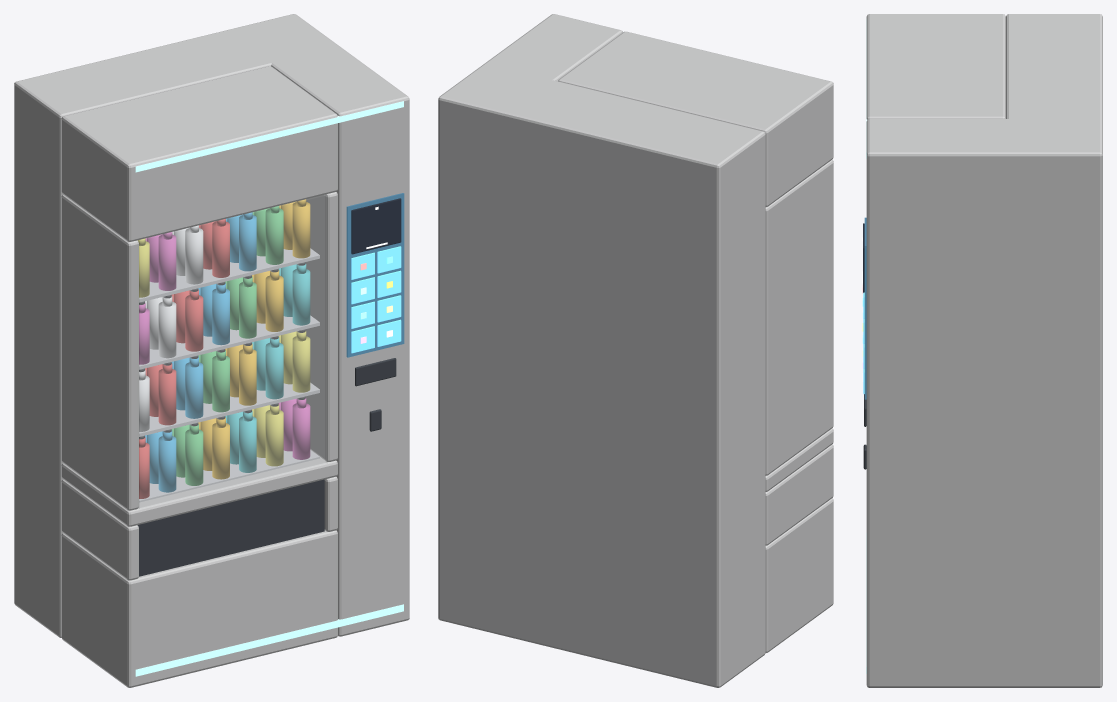
File: VendingMachine.glb
The picture shows the model from 3 angles, left to right: view 1: azimuth 30°, elevation 25°; view 2: azimuth 150°, elevation 25°; view 3: azimuth 270°, elevation 25°; orthographic projection. The views are drawn at different scales.
Parts seen in each view (by area): view 1: VendingMachine; view 2: VendingMachine; view 3: VendingMachine.
Part boxes in pixels (x1=…): VendingMachine: x1=14, y1=14, x2=409, y2=687; VendingMachine: x1=438, y1=14, x2=833, y2=687; VendingMachine: x1=862, y1=14, x2=1102, y2=687.
Size of the model in its own units: 1.1 by 1.95 by 0.7945.
